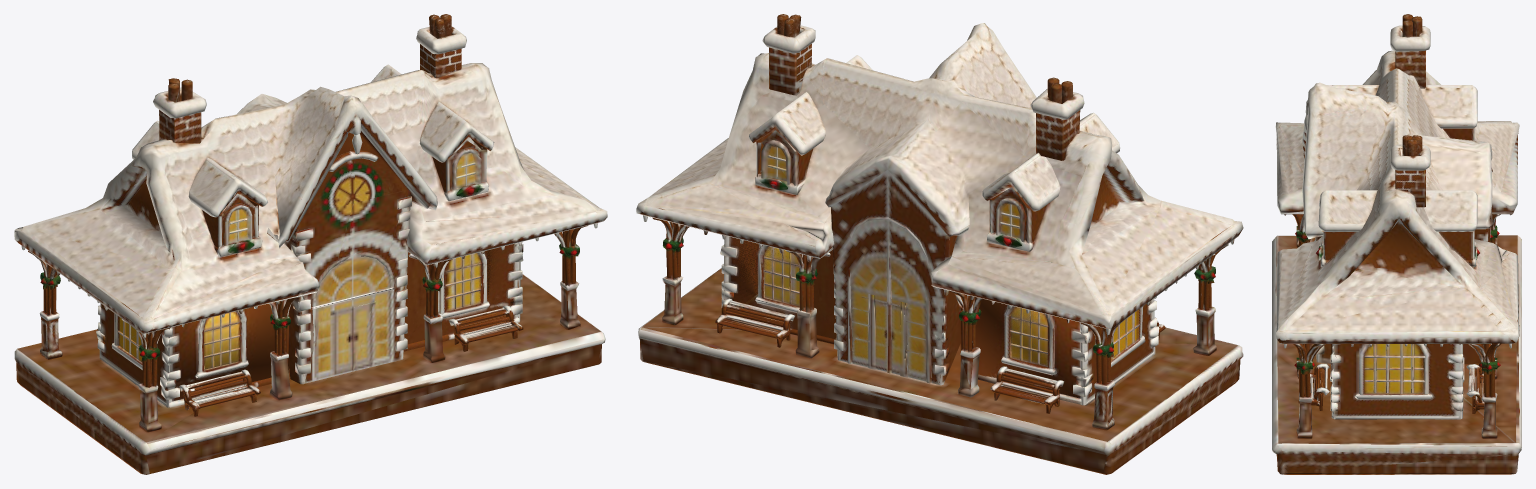
Rendered from AW-XMAS-STATION-001-v0.2.glb.
3 views of the same model, side by side, from view 1: azimuth 30°, elevation 25°; view 2: azimuth 150°, elevation 25°; view 3: azimuth 270°, elevation 25° (orthographic). The views are drawn at different scales.
Parts seen in each view (by area): view 1: AW-XMAS-STATION-001_meter_ground_pivot; view 2: AW-XMAS-STATION-001_meter_ground_pivot; view 3: AW-XMAS-STATION-001_meter_ground_pivot.
Boxes of the visible parts, x1,y1,x2,y2 form: AW-XMAS-STATION-001_meter_ground_pivot: [14, 14, 607, 474]; AW-XMAS-STATION-001_meter_ground_pivot: [636, 14, 1243, 474]; AW-XMAS-STATION-001_meter_ground_pivot: [1272, 14, 1521, 474].
Size of the model in its own units: 13.81 by 9 by 6.86.
1 material, 1 textured.
